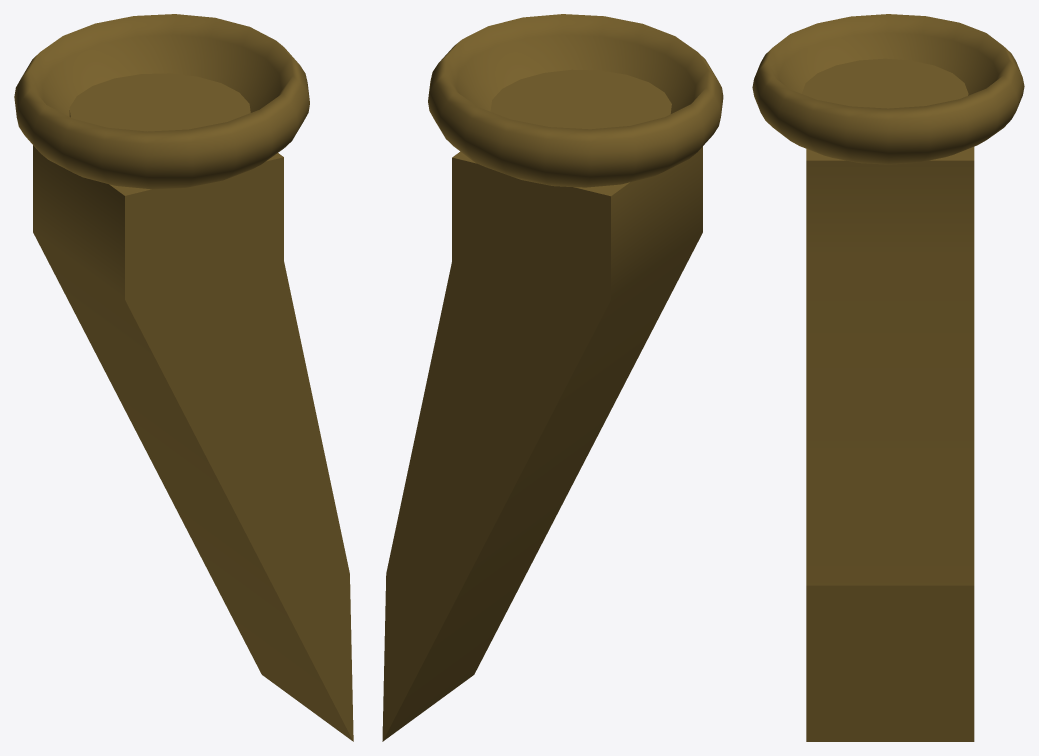
The model's file is torch.fbx.
The picture shows the model from 3 angles, left to right: view 1: azimuth 30°, elevation 25°; view 2: azimuth 150°, elevation 25°; view 3: azimuth 270°, elevation 25°; orthographic projection. The views are drawn at different scales.
Parts seen in each view (by area): view 1: pCube27, pSphere1, Lighter; view 2: pCube27, pSphere1, Lighter; view 3: pCube27, pSphere1, Lighter.
Part boxes in pixels (x1,y1,x2,y2): pCube27: (33,145,353,741); pSphere1: (14,14,309,189); Lighter: (69,73,250,131); pCube27: (382,146,702,741); pSphere1: (428,14,723,187); Lighter: (490,69,671,129); pCube27: (806,147,974,741); pSphere1: (752,14,1024,164); Lighter: (802,58,968,108).
Bounding box in the file's own units: 0.4786 × 1.12 × 0.4481.
